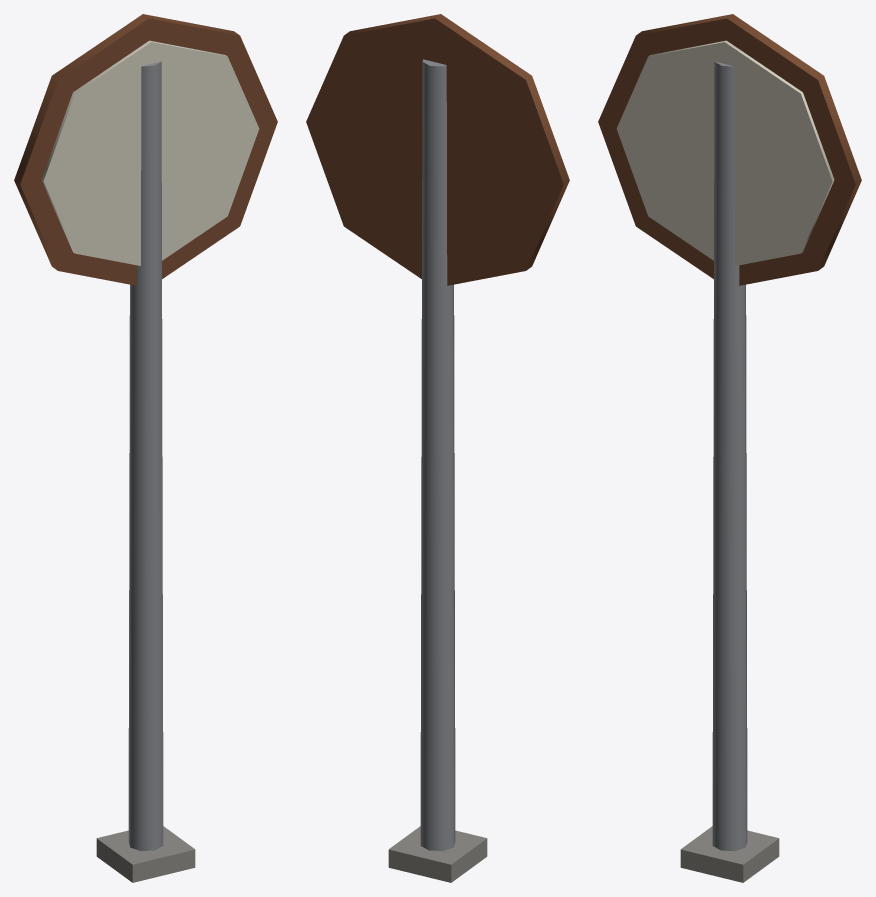
File: SM_H_Stop_Sign_A.obj
3 views of the same model, side by side, from view 1: azimuth 30°, elevation 25°; view 2: azimuth 150°, elevation 25°; view 3: azimuth 330°, elevation 25° (orthographic).
Parts seen in each view (by area): view 1: plate_face, post, plate_octagon, foot_plate; view 2: plate_octagon, post, foot_plate; view 3: plate_face, post, plate_octagon, foot_plate.
Part boxes in pixels (x1,y1,x2,y2): plate_face: [41, 40, 259, 265]; post: [128, 61, 163, 851]; plate_octagon: [14, 14, 277, 285]; foot_plate: [96, 826, 195, 882]; plate_octagon: [306, 14, 569, 285]; post: [420, 59, 455, 851]; foot_plate: [388, 826, 487, 882]; plate_face: [616, 40, 834, 265]; post: [712, 61, 747, 851]; plate_octagon: [598, 14, 861, 285]; foot_plate: [680, 826, 779, 882].
Size of the model in its own units: 0.74 by 2.32 by 0.18.
